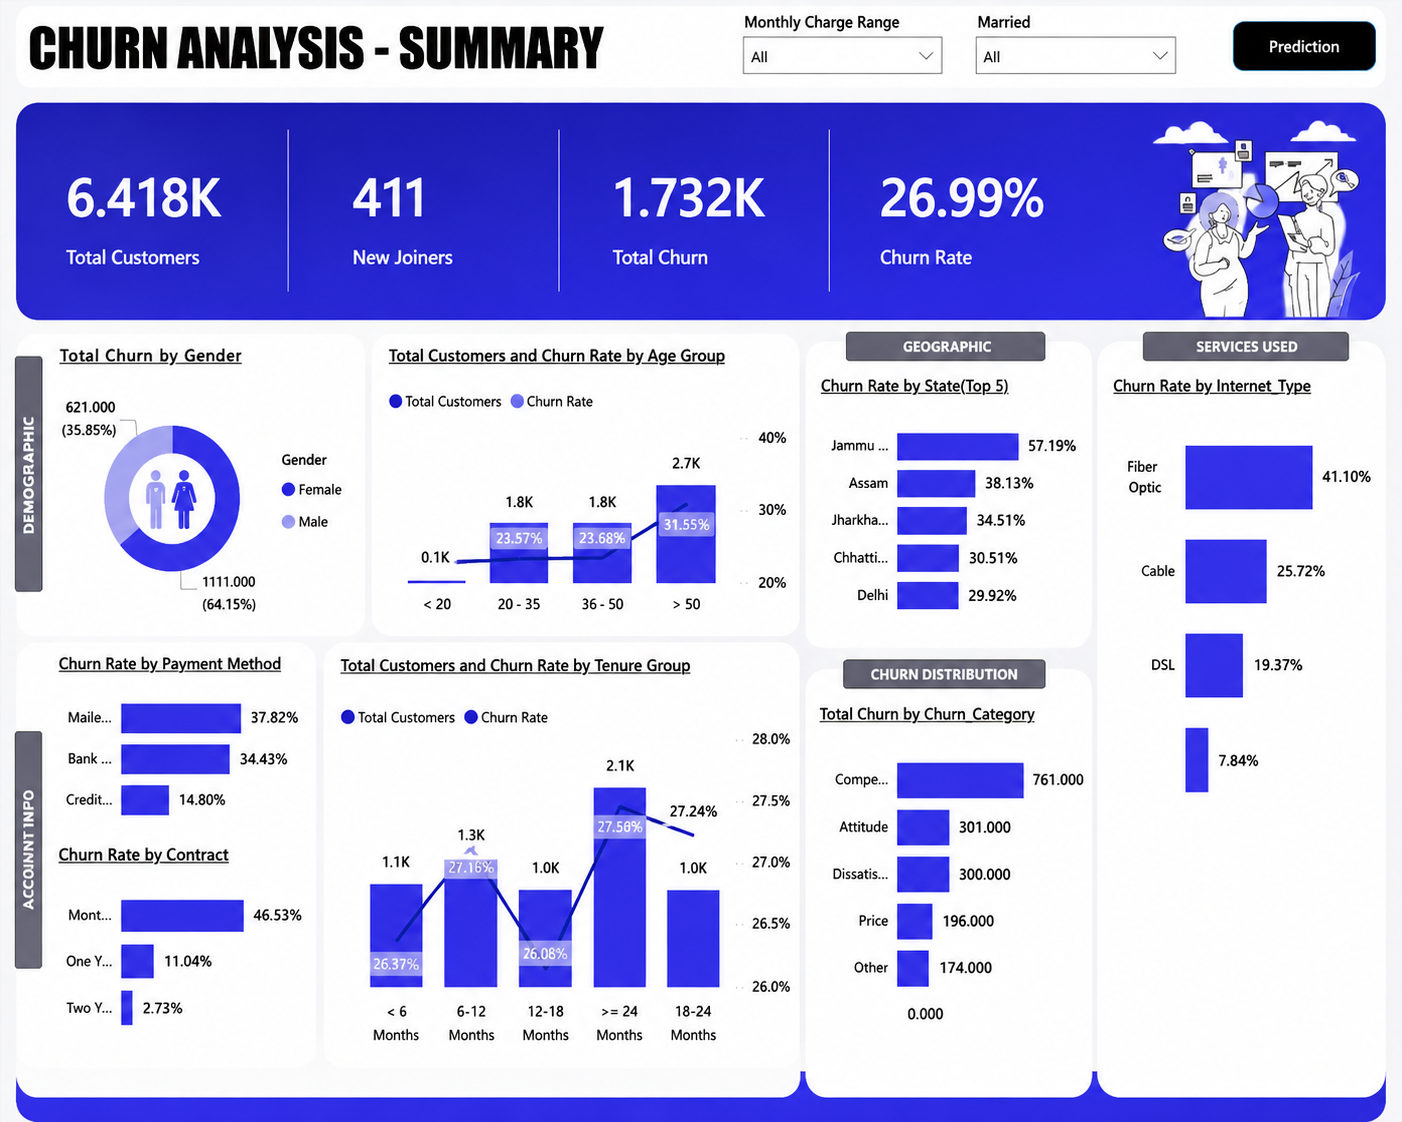

The page's visual inventory and layout, read from the dashboard file:
{"tool":"powerbi","page":{"name":"Summary","canvas":[1280,720],"ordinal":0},"visuals":[{"type":"cardVisual","fields":{"Data":["tbl_Measures.Total Customers"]},"box":[22.1,75.5,208,152.8],"z":0},{"type":"cardVisual","fields":{"Data":["tbl_Measures.New Joiners"]},"box":[272.4,90.2,211.7,125.2],"z":1000},{"type":"cardVisual","fields":{"Data":["tbl_Measures.Total Churn"]},"box":[517.3,90.2,211.7,125.2],"z":2000},{"type":"cardVisual","fields":{"Data":["tbl_Measures.Churn Rate"]},"box":[745.5,90.2,241.2,125.2],"z":3000},{"type":"donutChart","fields":{"Category":["prod_churn.Gender"],"Y":["tbl_Measures.Total Churn"]},"box":[31.3,243,254,180.4],"z":4000},{"type":"lineClusteredColumnComboChart","fields":{"Category":["mapping_AgeGrp.Age Group"],"Y":["tbl_Measures.Total Customers"],"Y2":["tbl_Measures.Churn Rate"]},"box":[285.3,243,381.1,180.4],"z":5000},{"type":"clusteredBarChart","fields":{"Category":["prod_churn.Payment_Method"],"Y":["tbl_Measures.Churn Rate"]},"box":[31.3,427.1,220.9,127],"z":6000},{"type":"clusteredBarChart","fields":{"Category":["prod_churn.Contract"],"Y":["tbl_Measures.Churn Rate"]},"box":[31.3,554.1,220.9,143.6],"z":7000},{"type":"lineClusteredColumnComboChart","fields":{"Category":["mapping_TenureGrp.Tenure Group"],"Y":["tbl_Measures.Total Customers"],"Y2":["tbl_Measures.Churn Rate"]},"box":[252.2,427.1,414.2,270.6],"z":8000},{"type":"clusteredBarChart","fields":{"Category":["prod_churn.Churn_Category"],"Y":["tbl_Measures.Total Churn"]},"box":[679.3,460.2,250.4,237.5],"z":9000},{"type":"clusteredBarChart","title":"Churn Rate by State(Top 5)","fields":{"Category":["prod_churn.State"],"Y":["tbl_Measures.Churn Rate"]},"box":[679.3,259.6,250.4,163.8],"z":10000},{"type":"clusteredBarChart","fields":{"Category":["prod_churn.Internet_Type"],"Y":["tbl_Measures.Churn Rate"]},"box":[948.3,260.2,317.2,437.5],"z":11000},{"type":"slicer","fields":{"Values":["prod_churn.Monthly Charge Range "]},"box":[666.4,0,202.5,68.1],"z":13000},{"type":"image","box":[97.6,314.8,60.7,55.2],"z":13500},{"type":"slicer","fields":{"Values":["prod_churn.Married"]},"box":[865.2,0,208,68.1],"z":14000},{"type":"shape","box":[1145.1,16.3,117.1,37.4],"z":14001}]}

Visuals, with their boxes on the page's 1280x720 design canvas (x1, y1, x2, y2). These are canvas units, not pixel positions in the 1402x1122 screenshot, which may show the page scaled, cropped or inside an application window:
cardVisual - tbl_Measures.Total Customers: BBox(22, 76, 230, 228)
cardVisual - tbl_Measures.New Joiners: BBox(272, 90, 484, 215)
cardVisual - tbl_Measures.Total Churn: BBox(517, 90, 729, 215)
cardVisual - tbl_Measures.Churn Rate: BBox(746, 90, 987, 215)
donutChart - prod_churn.Gender x tbl_Measures.Total Churn: BBox(31, 243, 285, 423)
lineClusteredColumnComboChart - mapping_AgeGrp.Age Group x tbl_Measures.Total Customers: BBox(285, 243, 666, 423)
clusteredBarChart - prod_churn.Payment_Method x tbl_Measures.Churn Rate: BBox(31, 427, 252, 554)
clusteredBarChart - prod_churn.Contract x tbl_Measures.Churn Rate: BBox(31, 554, 252, 698)
lineClusteredColumnComboChart - mapping_TenureGrp.Tenure Group x tbl_Measures.Total Customers: BBox(252, 427, 666, 698)
clusteredBarChart - prod_churn.Churn_Category x tbl_Measures.Total Churn: BBox(679, 460, 930, 698)
"Churn Rate by State(Top 5)" clusteredBarChart: BBox(679, 260, 930, 423)
clusteredBarChart - prod_churn.Internet_Type x tbl_Measures.Churn Rate: BBox(948, 260, 1266, 698)
slicer - prod_churn.Monthly Charge Range : BBox(666, 0, 869, 68)
image: BBox(98, 315, 158, 370)
slicer - prod_churn.Married: BBox(865, 0, 1073, 68)
shape: BBox(1145, 16, 1262, 54)
